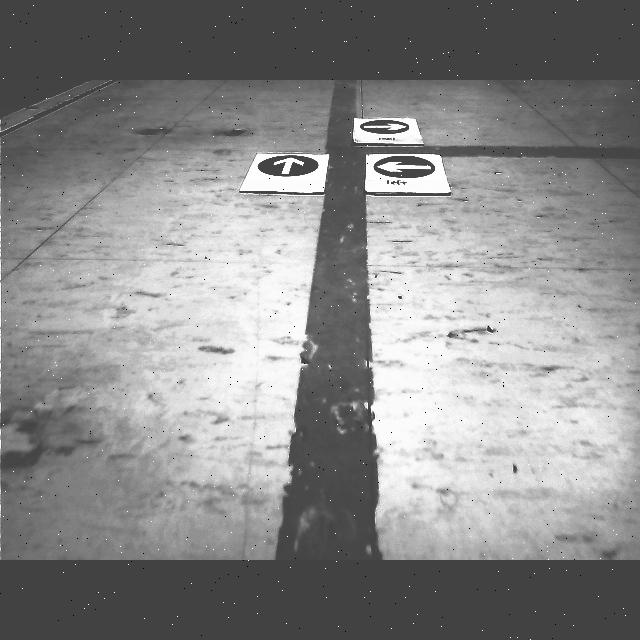GO FORWARD: (258, 155, 318, 176)
TURN LEFT: (374, 155, 435, 177)
TURN RIGHT: (361, 119, 409, 133)
